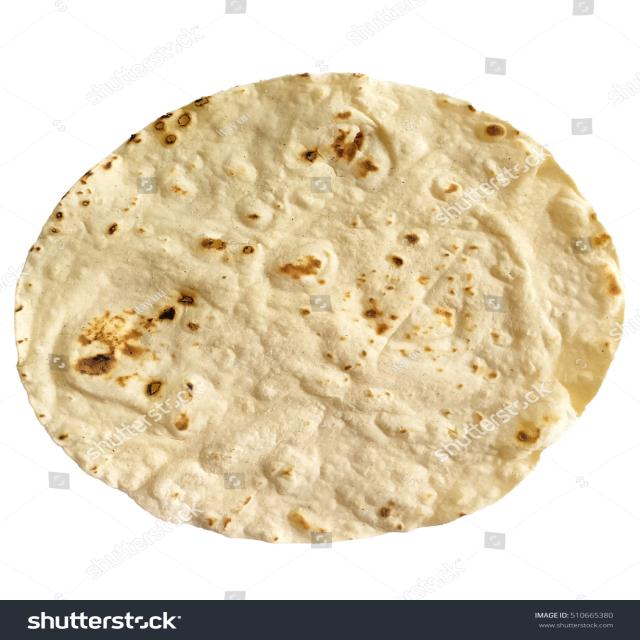ROTI: (10, 74, 590, 537)
